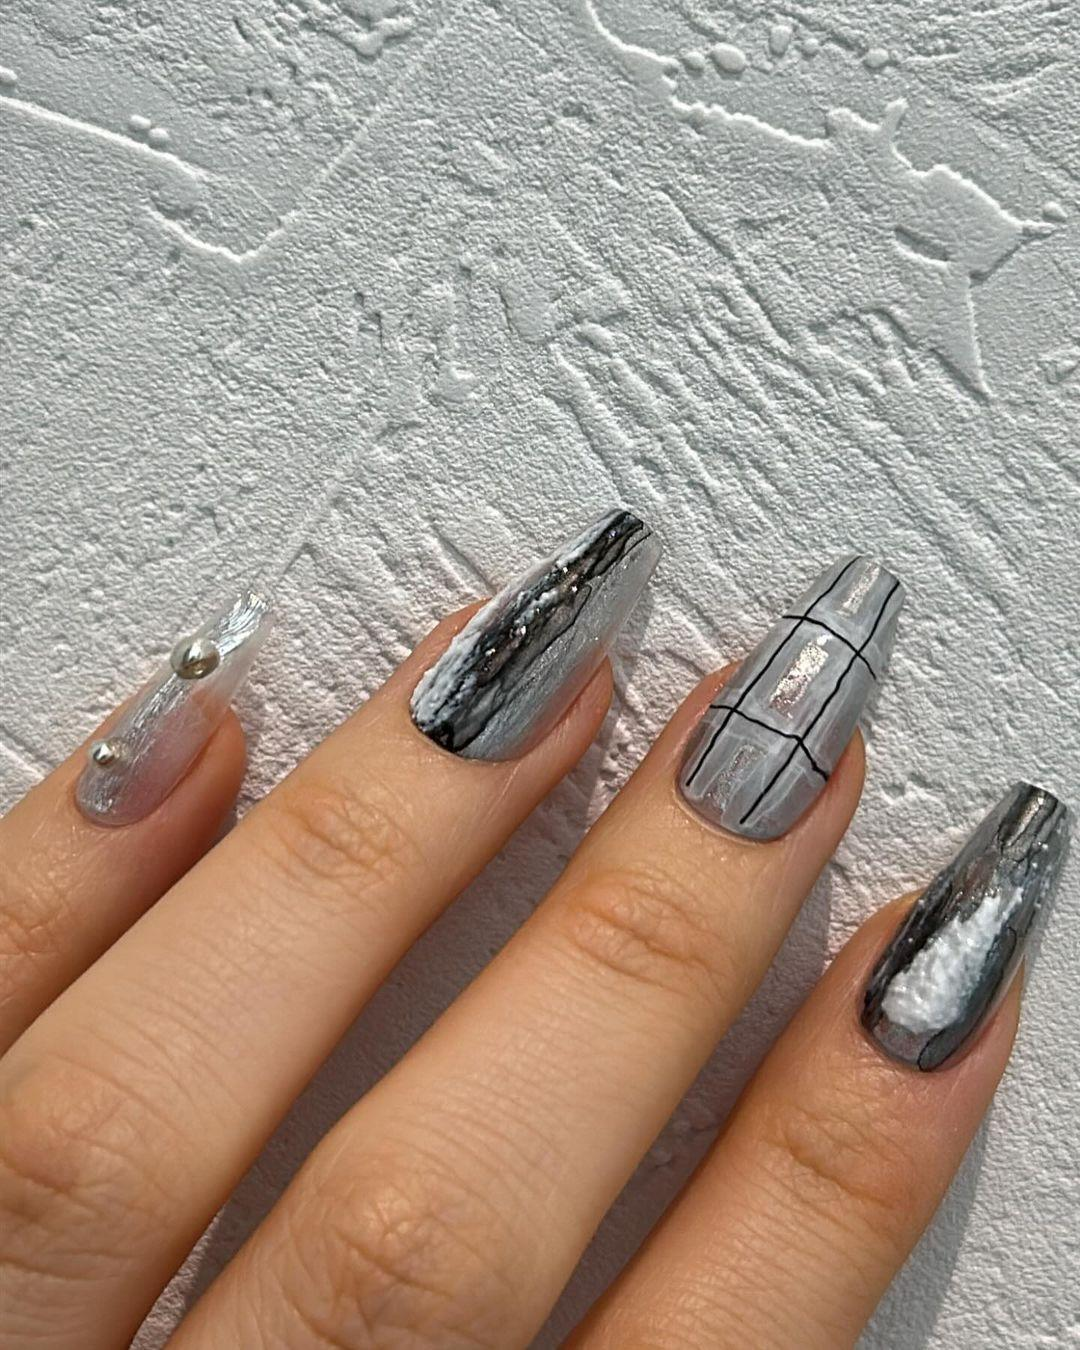nail: (672, 551, 907, 843), (407, 506, 662, 763), (856, 778, 1070, 1073), (71, 580, 276, 828)
